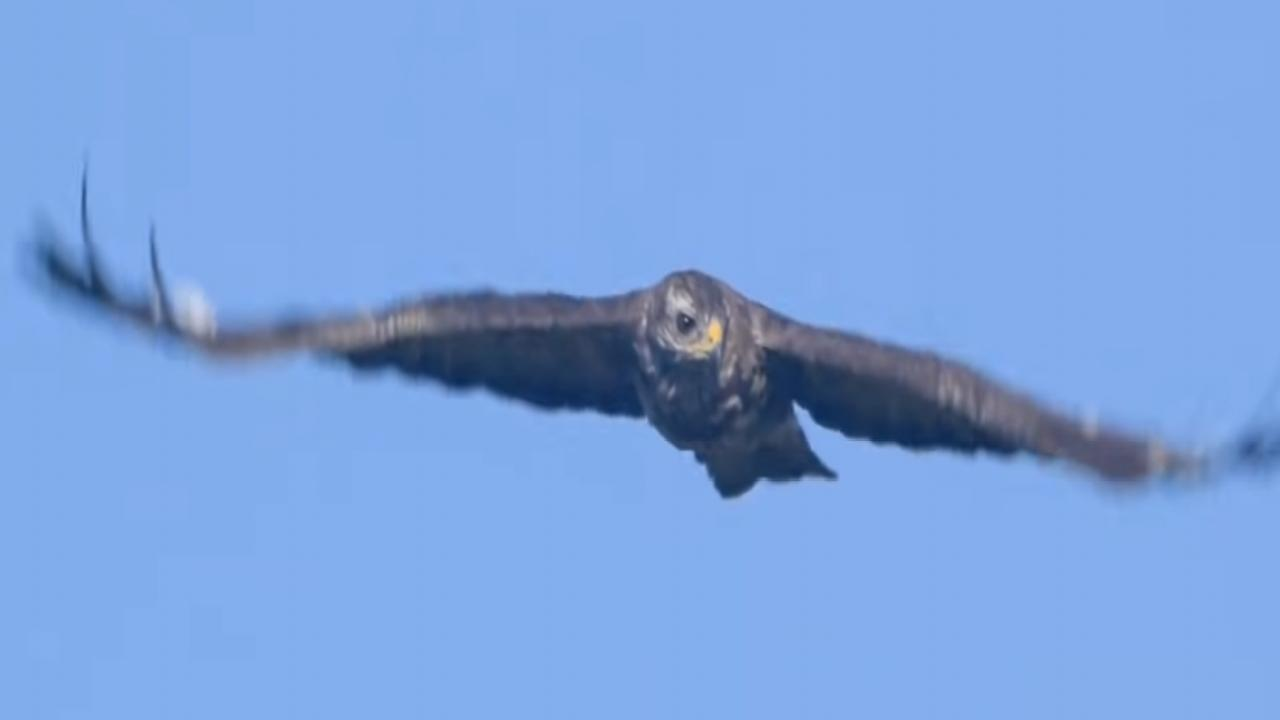Bird: (9, 141, 1280, 545)
